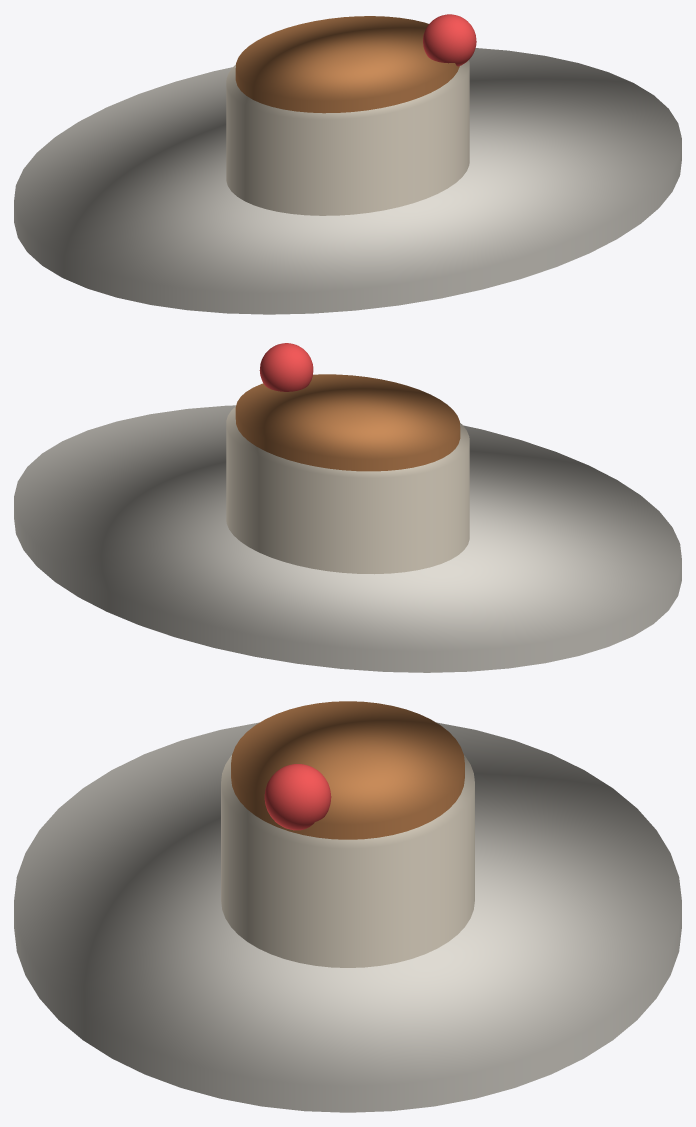
Rendered from cake.glb.
The picture shows the model from 3 angles, top to bottom: view 1: azimuth 30°, elevation 25°; view 2: azimuth 150°, elevation 25°; view 3: azimuth 270°, elevation 25°; orthographic projection. The views are drawn at different scales.
Bounding box in the file's own units: 2.1 × 0.555 × 1.6.
